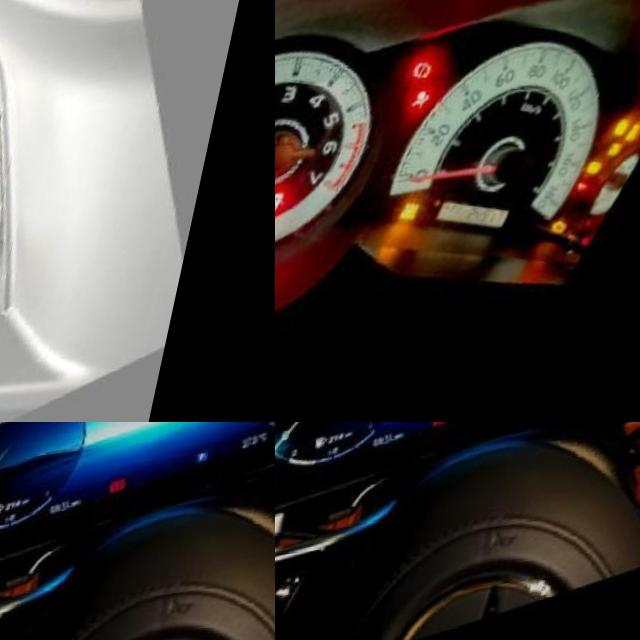Low fuel level: (320, 442, 335, 456), (0, 509, 12, 523)
